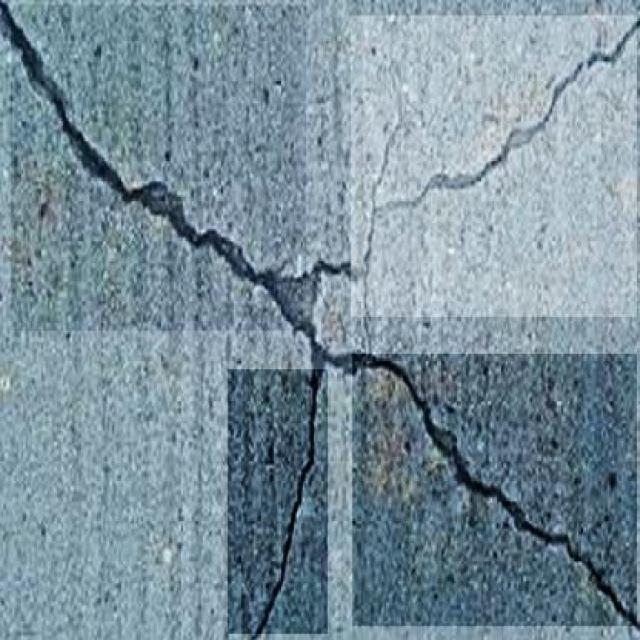Crack: (3, 3, 320, 334), (356, 338, 640, 640), (327, 23, 640, 288), (235, 367, 325, 640)
